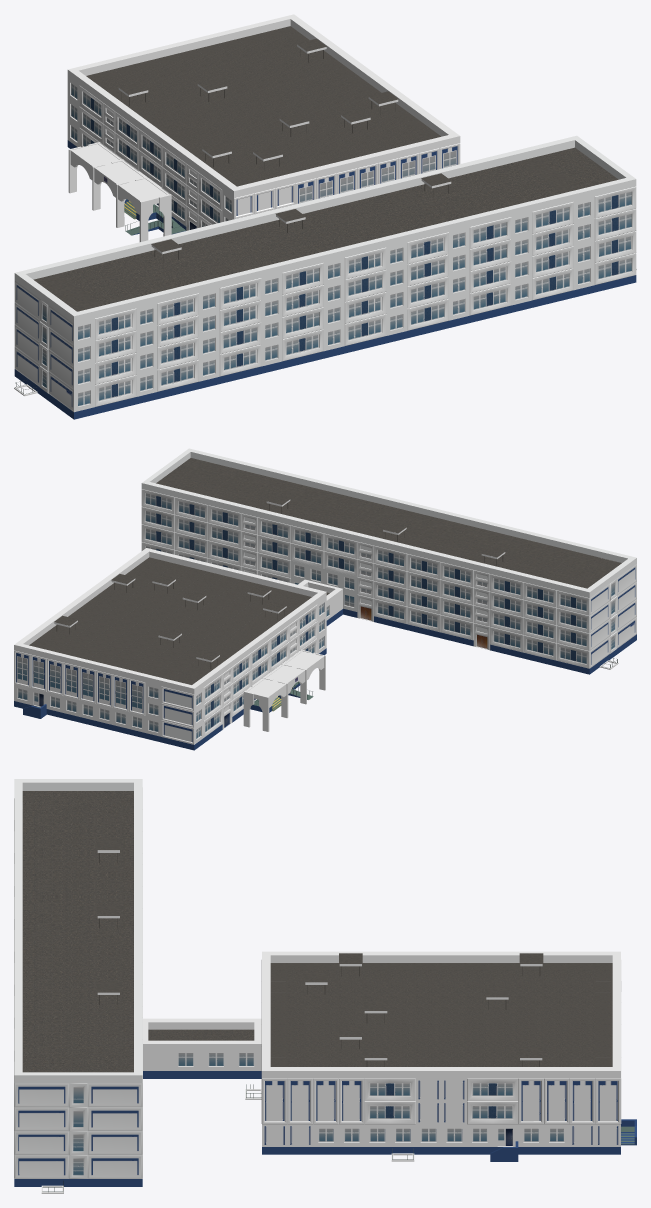
The model's file is schol_19.obj.
3 renders of one model, top to bottom at view 1: azimuth 30°, elevation 25°; view 2: azimuth 150°, elevation 25°; view 3: azimuth 270°, elevation 25°, orthographic. The views are drawn at different scales.
Parts seen in each view (by area): view 1: korpusa korpus_2, korpusa korpus_1, arka, vent_reshetki vent, vent vent, stupenki_pandus; view 2: korpusa korpus_2, korpusa korpus_1, arka, vent_reshetki vent, perehod korpusa, vent vent, stupenki_pandus; view 3: korpusa korpus_1, korpusa korpus_2, perehod korpusa, vent_reshetki vent, stupenki_pandus, vent vent.
Part boxes in pixels (x1=…): korpusa korpus_2: x1=14, y1=135, x2=636, y2=419; korpusa korpus_1: x1=67, y1=14, x2=460, y2=230; arka: x1=68, y1=142, x2=171, y2=241; vent_reshetki vent: x1=118, y1=38, x2=451, y2=262; vent vent: x1=118, y1=44, x2=451, y2=254; stupenki_pandus: x1=124, y1=199, x2=186, y2=235; korpusa korpus_2: x1=141, y1=448, x2=636, y2=674; korpusa korpus_1: x1=14, y1=548, x2=326, y2=750; arka: x1=243, y1=649, x2=325, y2=731; vent_reshetki vent: x1=54, y1=495, x2=505, y2=668; perehod korpusa: x1=298, y1=579, x2=342, y2=625; vent vent: x1=54, y1=499, x2=505, y2=662; stupenki_pandus: x1=23, y1=681, x2=313, y2=718; korpusa korpus_1: x1=261, y1=951, x2=621, y2=1154; korpusa korpus_2: x1=14, y1=779, x2=142, y2=1186; perehod korpusa: x1=143, y1=1018, x2=261, y2=1078; vent_reshetki vent: x1=97, y1=839, x2=543, y2=1066; stupenki_pandus: x1=490, y1=1119, x2=636, y2=1161; vent vent: x1=97, y1=850, x2=542, y2=1060.
Bounding box in the file's own units: 8585 × 1521 × 7287.
9 materials, 6 textured.
